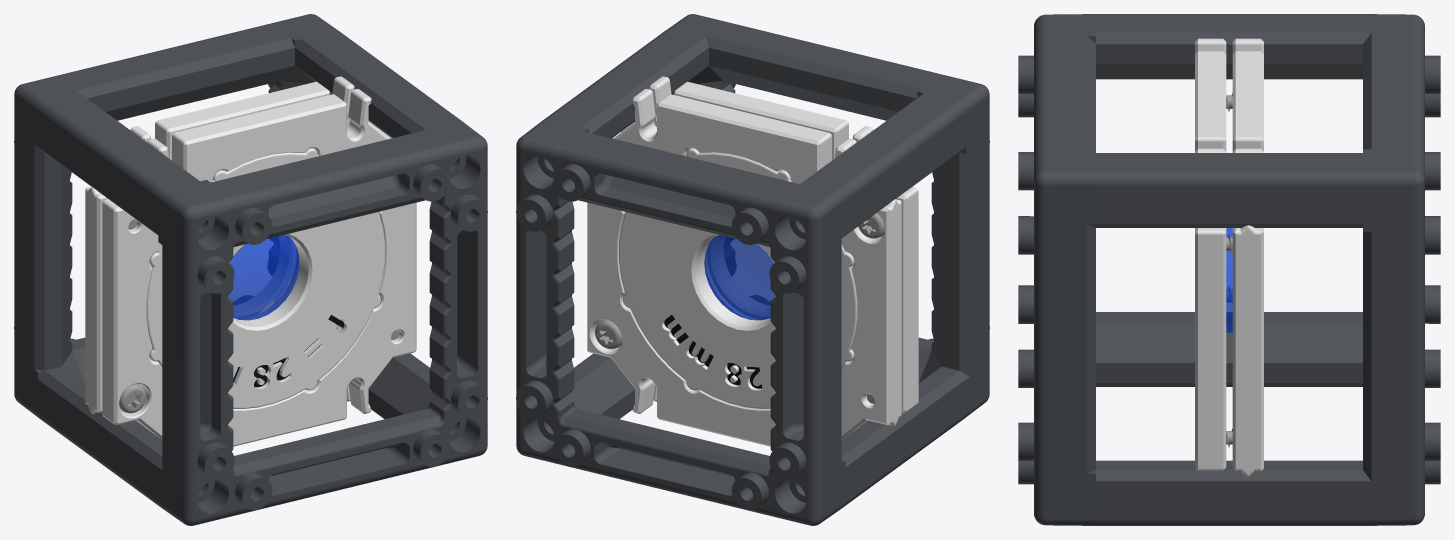
File: ASS_-_2010_-_CUBLEND16F28_-_V04_BD.glb
3 renders of one model, left to right at view 1: azimuth 30°, elevation 25°; view 2: azimuth 150°, elevation 25°; view 3: azimuth 270°, elevation 25°, orthographic. The views are drawn at different scales.
Parts seen in each view (by area): view 1: PRT - 1003 - CUBHLF111 - V04:2, PRT - 1003 - CUBHLF111 - V04:1, PRT - 2100 - MASINS - V04:1, PRT - 2102 - MASINSLEND16F28:1, PRT - 2123 - MASLCK - V04:1, BUY - Lens - f28 D16 sI3.6 R20 pl-cx:1, PRT - 2102 - MASINSLEND16F28:2, TP lens head screw with TORX - 2.5 x 6 - St - A2K:6; view 2: PRT - 1003 - CUBHLF111 - V04:1, PRT - 1003 - CUBHLF111 - V04:2, PRT - 2123 - MASLCK - V04:1, PRT - 2102 - MASINSLEND16F28:2, PRT - 2100 - MASINS - V04:1, BUY - Lens - f28 D16 sI3.6 R20 pl-cx:1, PRT - 2102 - MASINSLEND16F28:1, TP lens head screw with TORX - 2.5 x 6 - St - A2K:8; view 3: PRT - 1003 - CUBHLF111 - V04:2, PRT - 1003 - CUBHLF111 - V04:1, PRT - 2123 - MASLCK - V04:1, PRT - 2100 - MASINS - V04:1, BUY - Lens - f28 D16 sI3.6 R20 pl-cx:1.
Boxes of the visible parts, left/top/right/bottom form: PRT - 1003 - CUBHLF111 - V04:2: left=38, top=31, right=487, bottom=525; PRT - 1003 - CUBHLF111 - V04:1: left=14, top=14, right=455, bottom=429; PRT - 2100 - MASINS - V04:1: left=102, top=89, right=416, bottom=446; PRT - 2102 - MASINSLEND16F28:1: left=146, top=148, right=384, bottom=408; PRT - 2123 - MASLCK - V04:1: left=85, top=76, right=382, bottom=429; BUY - Lens - f28 D16 sI3.6 R20 pl-cx:1: left=228, top=235, right=299, bottom=320; PRT - 2102 - MASINSLEND16F28:2: left=233, top=235, right=298, bottom=319; TP lens head screw with TORX - 2.5 x 6 - St - A2K:6: left=119, top=384, right=146, bottom=413; PRT - 1003 - CUBHLF111 - V04:1: left=516, top=93, right=965, bottom=525; PRT - 1003 - CUBHLF111 - V04:2: left=544, top=14, right=989, bottom=506; PRT - 2123 - MASLCK - V04:1: left=587, top=89, right=901, bottom=446; PRT - 2102 - MASINSLEND16F28:2: left=619, top=148, right=857, bottom=408; PRT - 2100 - MASINS - V04:1: left=621, top=76, right=918, bottom=429; BUY - Lens - f28 D16 sI3.6 R20 pl-cx:1: left=704, top=235, right=775, bottom=320; PRT - 2102 - MASINSLEND16F28:1: left=704, top=235, right=770, bottom=319; TP lens head screw with TORX - 2.5 x 6 - St - A2K:8: left=595, top=319, right=621, bottom=349; PRT - 1003 - CUBHLF111 - V04:2: left=1018, top=14, right=1362, bottom=525; PRT - 1003 - CUBHLF111 - V04:1: left=1096, top=14, right=1440, bottom=525; PRT - 2123 - MASLCK - V04:1: left=1232, top=38, right=1263, bottom=476; PRT - 2100 - MASINS - V04:1: left=1195, top=38, right=1226, bottom=470; BUY - Lens - f28 D16 sI3.6 R20 pl-cx:1: left=1226, top=228, right=1232, bottom=332.
Size of the model in its own units: 49.8 by 49.8 by 53.8.
